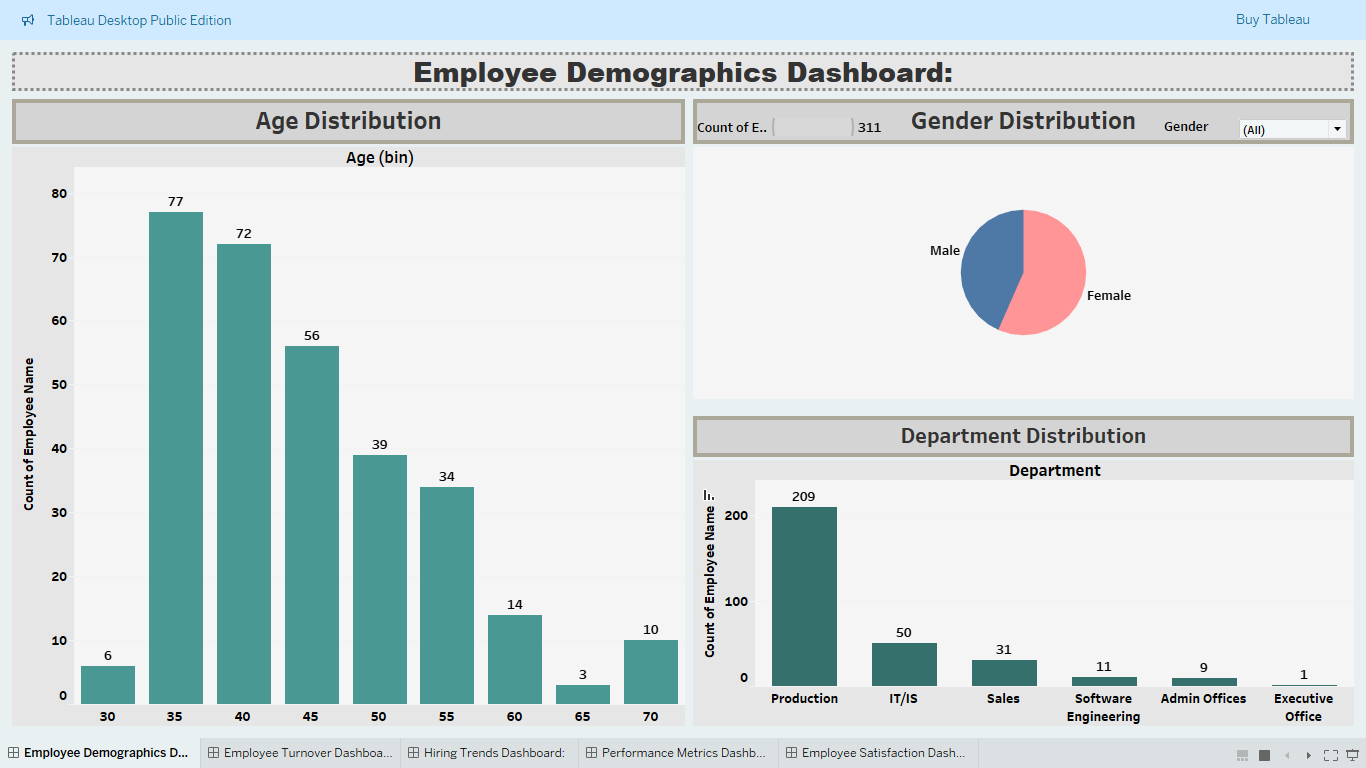

The page's visual inventory and layout, read from the dashboard file:
{"tool":"tableau","page":{"name":"Employee Demographics Dashboard:","canvas":[1000,1000],"units":"permille","ordinal":0},"visuals":[{"type":"title","box":[6.9,14.7,986.1,86.4]},{"type":"worksheet","title":"Age Distribution","mark":"Bar","rows":["Employee_Name"],"cols":["Age (bin)"],"box":[6.9,101.1,497.4,884.2]},{"type":"worksheet","title":"Gender Distribution","mark":"Pie","box":[504.3,101.1,488.8,441.9]},{"type":"filter","title":"Gender Distribution","param":"[federated.1hsvlwt0j8l6511919r4y1c92cl9].[none:Calculation_919297309964046337:nk","box":[852,108.5,135.9,42.3]},{"type":"legend","title":"Gender Distribution","param":"[federated.1hsvlwt0j8l6511919r4y1c92cl9].[cnt:Employee_Name:qk]","box":[510,110.3,142.9,36.8]},{"type":"worksheet","title":"Department Distribution","mark":"Bar","rows":["Employee_Name"],"cols":["Department"],"box":[504.3,543,488.8,442.2]}]}

Visuals, with their boxes on the dashboard's canvas, which has no fixed pixel size, in thousandths of its width and height (x1, y1, x2, y2). These are canvas units, not pixel positions in the 1366x768 screenshot, which may show the page scaled, cropped or inside an application window:
title: [7,15,993,101]
"Age Distribution" worksheet (Bar marks): [7,101,504,985]
"Gender Distribution" worksheet (Pie marks): [504,101,993,543]
"Gender Distribution" filter: [852,108,988,151]
"Gender Distribution" legend: [510,110,653,147]
"Department Distribution" worksheet (Bar marks): [504,543,993,985]
